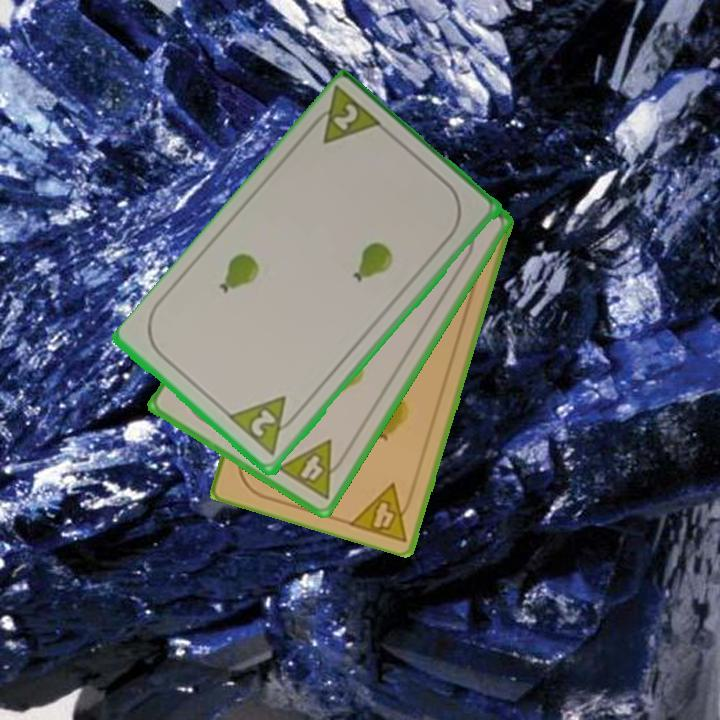2p: (303, 84, 388, 148), (226, 392, 305, 460)
4p: (273, 436, 352, 503), (345, 479, 419, 545)
